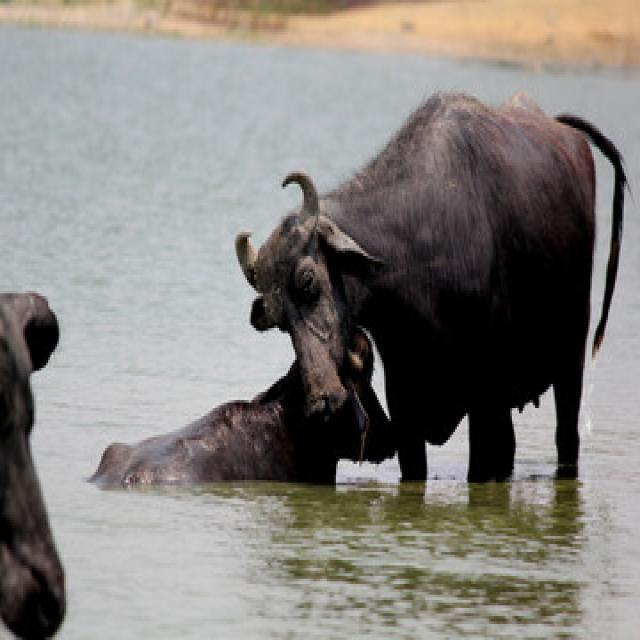Buffalo: (233, 94, 605, 510)
